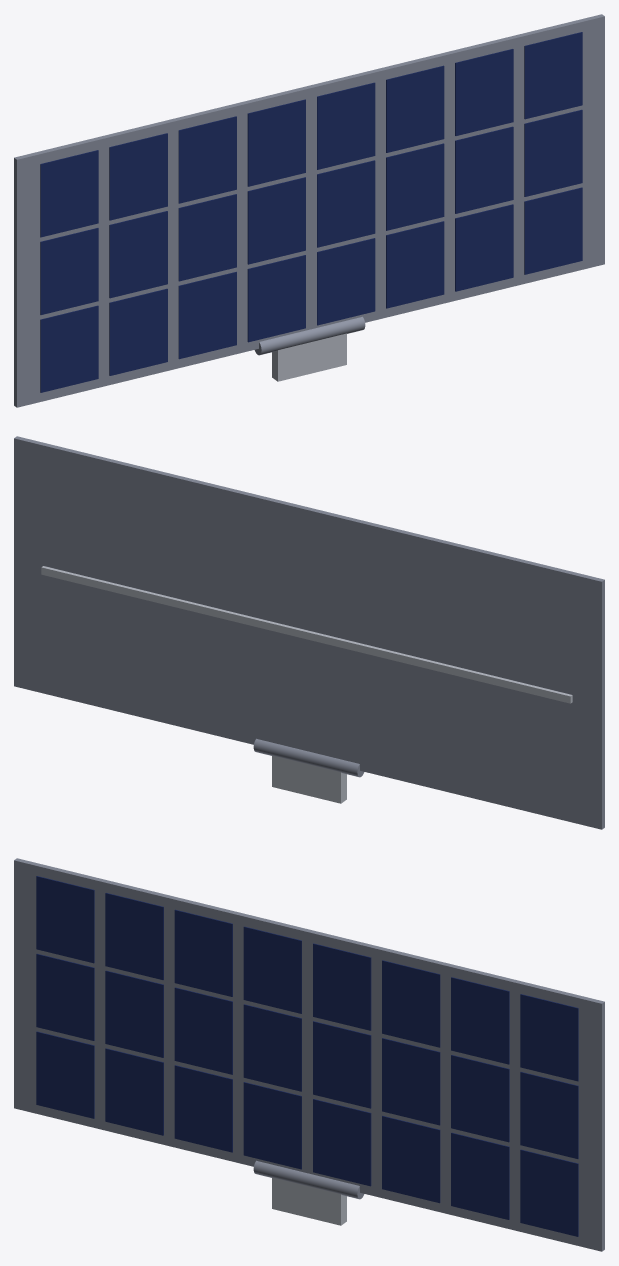
Rendered from pan30.glb.
3 renders of one model, top to bottom at view 1: azimuth 30°, elevation 25°; view 2: azimuth 150°, elevation 25°; view 3: azimuth 330°, elevation 25°, orthographic.
Parts seen in each view (by area): view 1: pan30_celdas, pan30_hoja, pan30_yugo, pan30_bisagra; view 2: pan30_hoja, pan30_rib1, pan30_yugo, pan30_bisagra; view 3: pan30_celdas, pan30_hoja, pan30_yugo, pan30_bisagra.
Part boxes in pixels (box(x1,y1,x2,y2)): pan30_celdas: box(40, 32, 582, 392); pan30_hoja: box(14, 14, 604, 407); pan30_yugo: box(272, 333, 346, 381); pan30_bisagra: box(254, 316, 365, 355); pan30_hoja: box(14, 436, 604, 829); pan30_rib1: box(41, 566, 572, 703); pan30_yugo: box(272, 755, 346, 803); pan30_bisagra: box(253, 738, 364, 777); pan30_celdas: box(36, 876, 578, 1236); pan30_hoja: box(14, 858, 604, 1251); pan30_yugo: box(272, 1177, 346, 1225); pan30_bisagra: box(253, 1160, 364, 1199).
Bounding box in the file's own units: 0.34 × 0.157 × 0.008.
